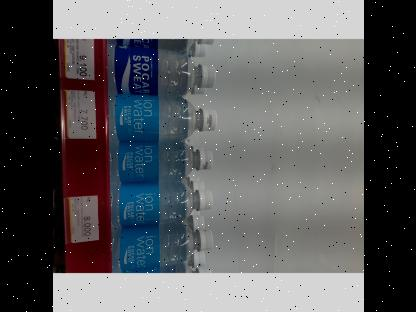Plastic Bottle: (70, 44, 214, 94), (67, 182, 215, 228), (76, 224, 214, 272), (75, 96, 217, 142), (67, 142, 221, 182)
